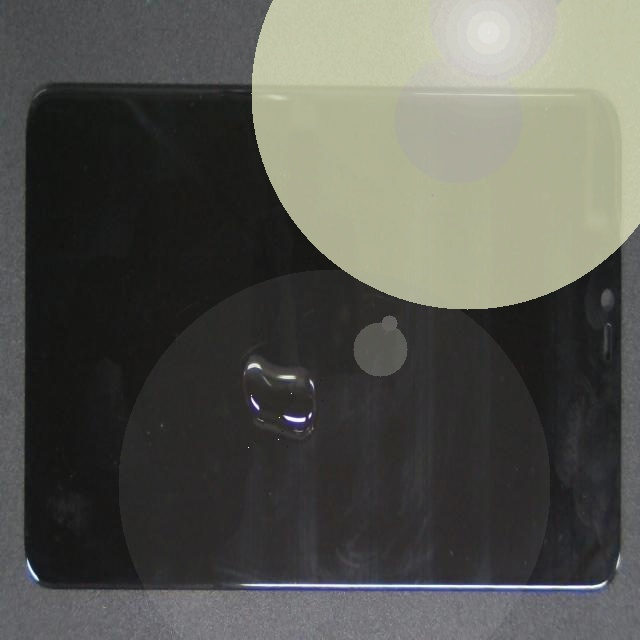oil: (111, 165, 371, 613)
